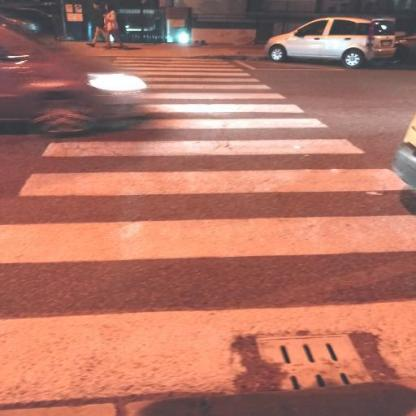crosswalk: (12, 138, 416, 206)
